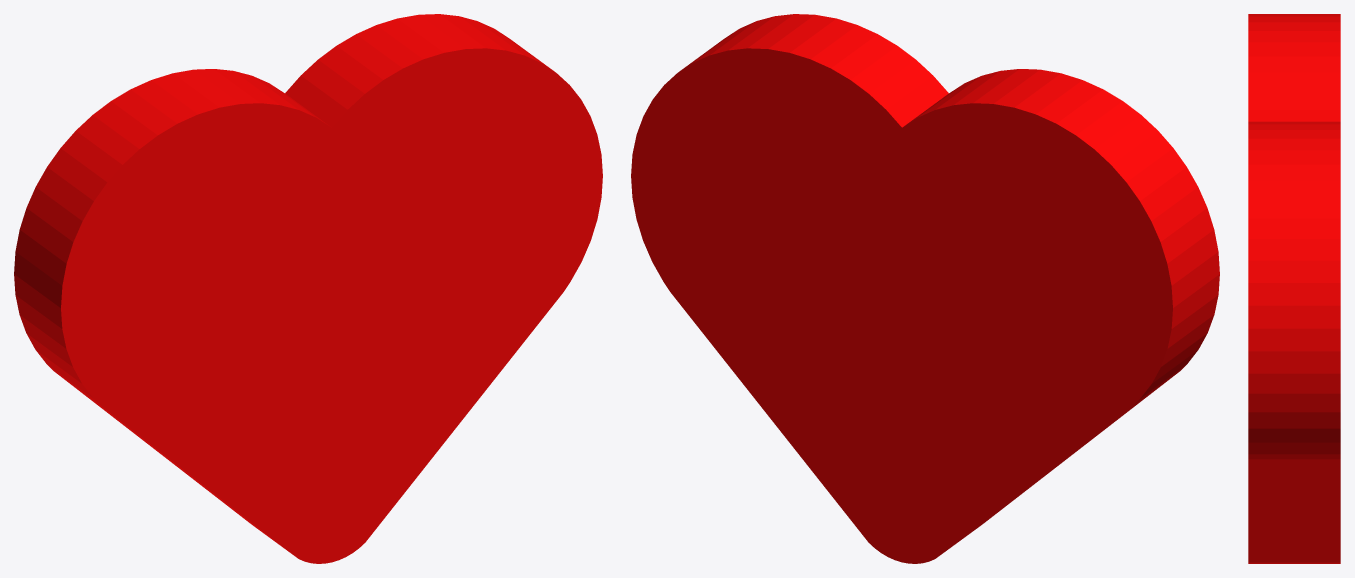
The model's file is Heart.fbx.
3 renders of one model, left to right at view 1: azimuth 30°, elevation 25°; view 2: azimuth 150°, elevation 25°; view 3: azimuth 270°, elevation 25°, orthographic.
Parts seen in each view (by area): view 1: Heart; view 2: Heart; view 3: Heart.
Part boxes in pixels (x1,y1,x2,y2): Heart: (14,14,602,563); Heart: (631,14,1219,563); Heart: (1248,14,1340,563).
Bounding box in the file's own units: 200 × 170 × 30.
